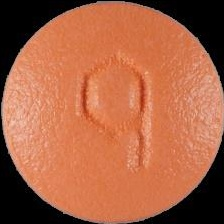0555-9051: (0, 0, 224, 224)
